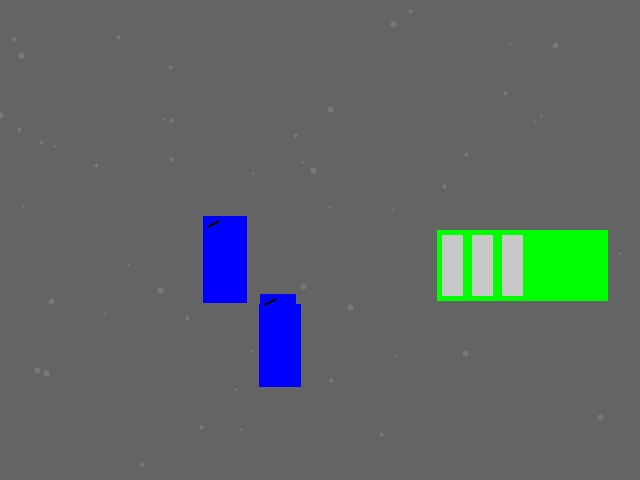bus: (437, 230, 607, 300)
motorcycle: (203, 216, 246, 302), (259, 304, 300, 386), (260, 294, 295, 365)
